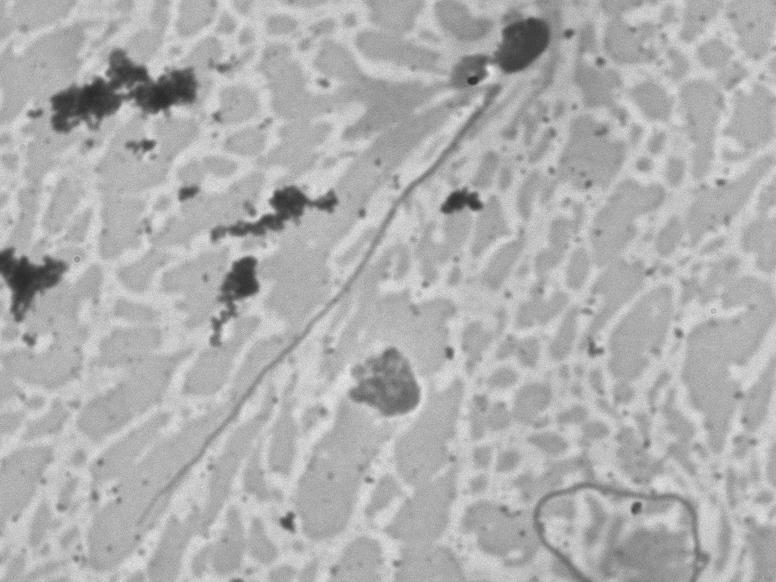Abnormal: (115, 11, 569, 550)
